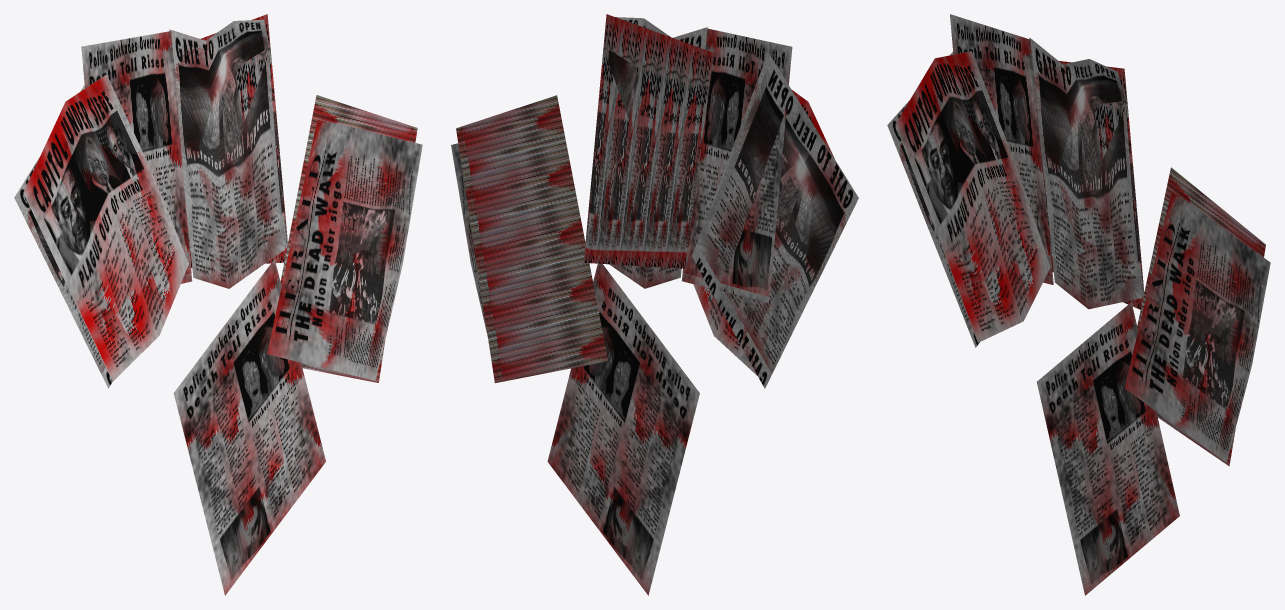
The model's file is newspaperofthedead_wtf.obj.
The picture shows the model from 3 angles, left to right: view 1: azimuth 30°, elevation 25°; view 2: azimuth 150°, elevation 25°; view 3: azimuth 330°, elevation 25°; orthographic projection. The views are drawn at different scales.
Parts seen in each view (by area): view 1: group2, group4, group5, group10, group9, group8, group3, group7, group11, group6; view 2: group3, group4, group11, group6, group9, group10, group5, group2; view 3: group2, group4, group5, group10, group9, group8, group3, group11, group7, group6.
Part boxes in pixels (x1,y1,x2,y2): group2: (267,119,422,380); group4: (173,259,325,595); group5: (23,74,188,381); group10: (169,19,277,288); group9: (81,31,192,283); group8: (169,30,285,268); group3: (280,95,417,382); group7: (110,168,188,262); group11: (186,14,287,267); group6: (14,85,112,388); group3: (456,95,608,383); group4: (547,263,699,595); group11: (583,14,713,268); group6: (692,52,858,388); group9: (682,28,792,302); group10: (605,17,707,288); group5: (693,89,834,375); group2: (451,143,487,335); group2: (1124,190,1270,462); group4: (1037,302,1179,595); group5: (895,51,1050,342); group10: (1029,37,1133,309); group9: (950,14,1053,284); group8: (1029,38,1141,303); group3: (1137,167,1265,466); group11: (1040,60,1144,309); group7: (977,159,1050,266); group6: (887,52,979,347).
Size of the model in its own units: 483 by 660 by 5.78.
